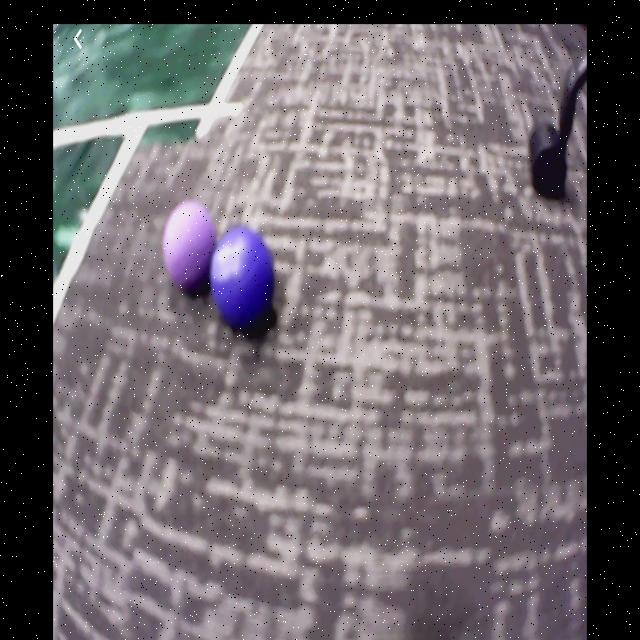ball: (210, 221, 276, 334), (165, 202, 213, 294)
